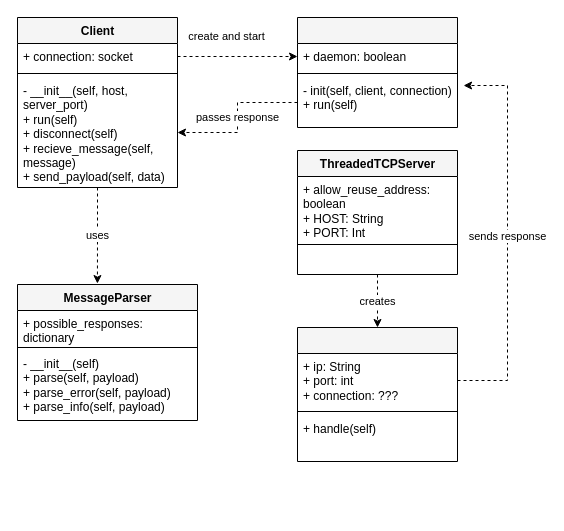
This 564x531 diagram has some shape labels left out. The shapes that lost their labels are listed below. From the top down, each one's box as (x1, y1, x2, y2) in pixels, then its label:
(296, 16, 458, 128): MessageReciever(Thread)
(296, 326, 458, 462): ClientHandler
